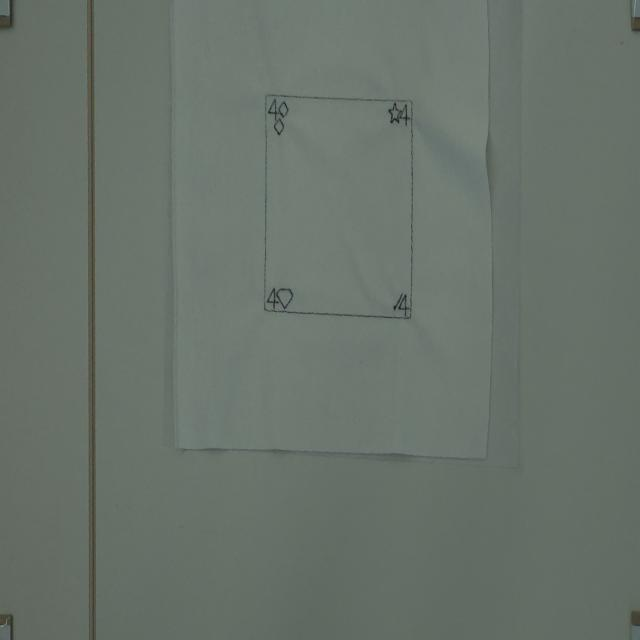4 -: (267, 281, 281, 315), (396, 102, 412, 128), (267, 96, 280, 122), (396, 294, 409, 316)
